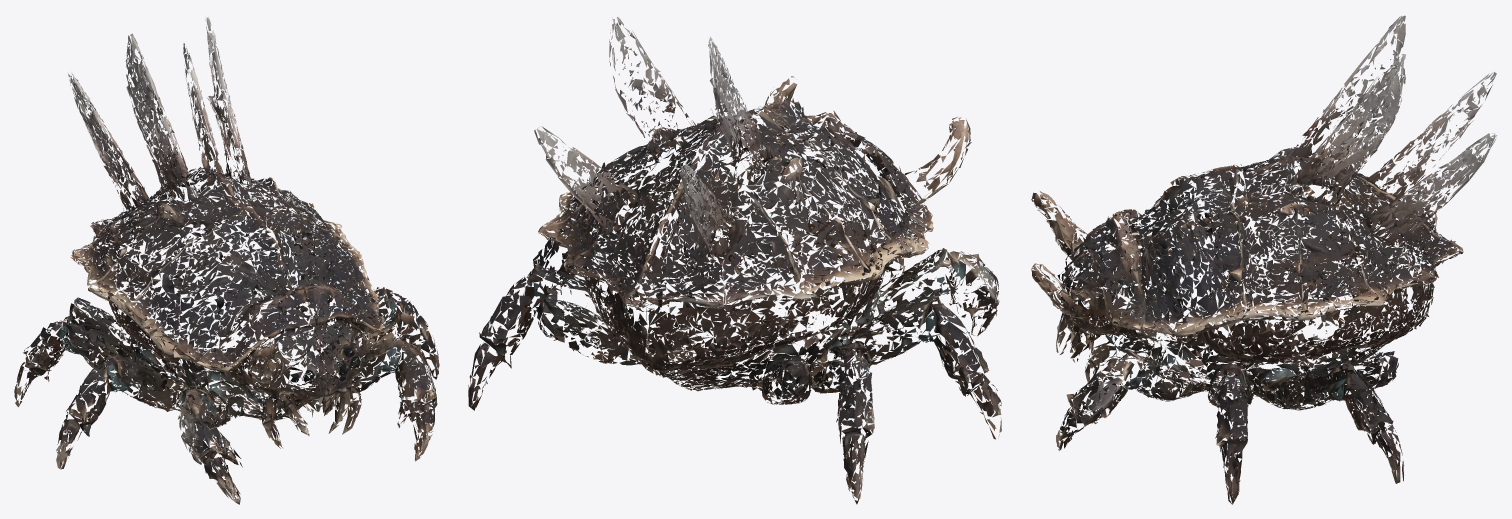
The model's file is swarm_bug.glb.
3 renders of one model, left to right at view 1: azimuth 30°, elevation 25°; view 2: azimuth 150°, elevation 25°; view 3: azimuth 270°, elevation 25°, orthographic. The views are drawn at different scales.
Parts seen in each view (by area): view 1: tripo_node_c29c081d-1efd-478b-948a-c0a71a3cf9ae; view 2: tripo_node_c29c081d-1efd-478b-948a-c0a71a3cf9ae; view 3: tripo_node_c29c081d-1efd-478b-948a-c0a71a3cf9ae.
Boxes of the visible parts, x1=… form: tripo_node_c29c081d-1efd-478b-948a-c0a71a3cf9ae: x1=14, y1=17, x2=439, y2=504; tripo_node_c29c081d-1efd-478b-948a-c0a71a3cf9ae: x1=468, y1=17, x2=1001, y2=504; tripo_node_c29c081d-1efd-478b-948a-c0a71a3cf9ae: x1=1031, y1=15, x2=1497, y2=504.
Size of the model in its own units: 1.1 by 0.95 by 1.08.
1 material, 1 textured.
